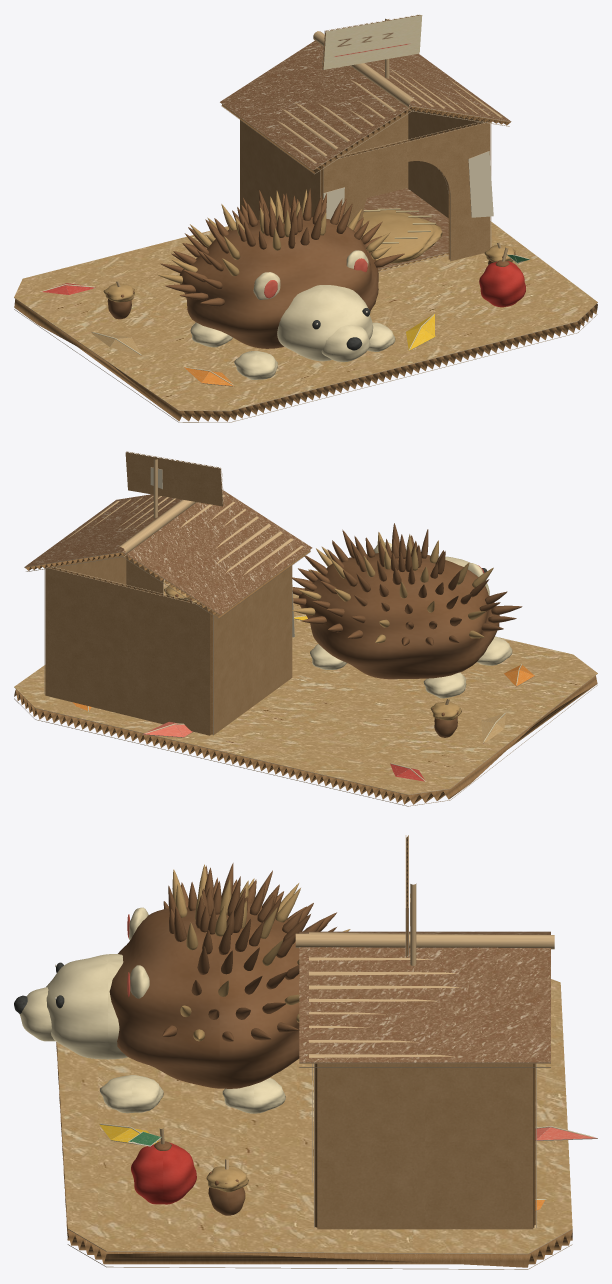
File: 28_clay_hedgehog_hideout.glb
The picture shows the model from 3 angles, top to bottom: view 1: azimuth 30°, elevation 25°; view 2: azimuth 150°, elevation 25°; view 3: azimuth 270°, elevation 25°; orthographic projection. The views are drawn at different scales.
Parts seen in each view (by area): view 1: artwork_28_clay_hedgehog_hideout, clay_brown, kraft, brown, clay_cream, flute, clay_sand, edge, tape, wood, clay_red, wood_light (+2 smaller); view 2: kraft, artwork_28_clay_hedgehog_hideout, clay_brown, brown, flute, clay_sand, edge, clay_cream, wood, wood_light, sand, coral; view 3: artwork_28_clay_hedgehog_hideout, kraft, clay_brown, brown, clay_cream, flute, wood_light, clay_sand, wood, clay_red, edge.
Boxes of the visible parts, left/top/right/bottom form: artwork_28_clay_hedgehog_hideout: left=14, top=15, right=597, bottom=410; clay_brown: left=107, top=188, right=514, bottom=348; kraft: left=240, top=109, right=490, bottom=260; brown: left=220, top=40, right=510, bottom=269; clay_cream: left=190, top=250, right=395, bottom=379; flute: left=14, top=15, right=597, bottom=421; clay_sand: left=103, top=189, right=515, bottom=302; edge: left=14, top=14, right=597, bottom=422; tape: left=323, top=151, right=493, bottom=219; wood: left=116, top=67, right=508, bottom=286; clay_red: left=479, top=261, right=525, bottom=307; wood_light: left=313, top=18, right=415, bottom=108; kraft: left=45, top=452, right=292, bottom=735; artwork_28_clay_hedgehog_hideout: left=14, top=580, right=597, bottom=794; clay_brown: left=166, top=523, right=522, bottom=737; brown: left=25, top=490, right=311, bottom=614; flute: left=14, top=451, right=597, bottom=804; clay_sand: left=164, top=532, right=493, bottom=720; edge: left=14, top=451, right=597, bottom=806; clay_cream: left=310, top=542, right=512, bottom=698; wood: left=36, top=494, right=449, bottom=704; wood_light: left=118, top=459, right=196, bottom=555; sand: left=481, top=713, right=505, bottom=742; coral: left=143, top=722, right=192, bottom=737; artwork_28_clay_hedgehog_hideout: left=57, top=979, right=572, bottom=1253; kraft: left=317, top=1063, right=533, bottom=1229; clay_brown: left=109, top=863, right=336, bottom=1215; brown: left=299, top=931, right=550, bottom=1062; clay_cream: left=19, top=907, right=285, bottom=1113; flute: left=56, top=836, right=572, bottom=1267; wood_light: left=295, top=883, right=554, bottom=965; clay_sand: left=172, top=864, right=350, bottom=1192; wood: left=159, top=932, right=460, bottom=1169; clay_red: left=131, top=1142, right=196, bottom=1204; edge: left=56, top=835, right=572, bottom=1269.
Size of the model in its own units: 0.458 by 0.2415 by 0.3922.
23 materials, 21 textured.
